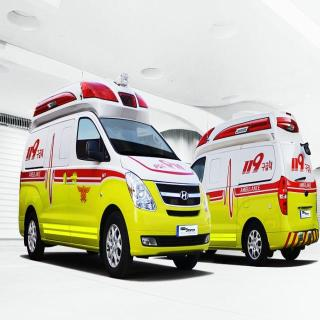Ambulance: (11, 81, 212, 293)
